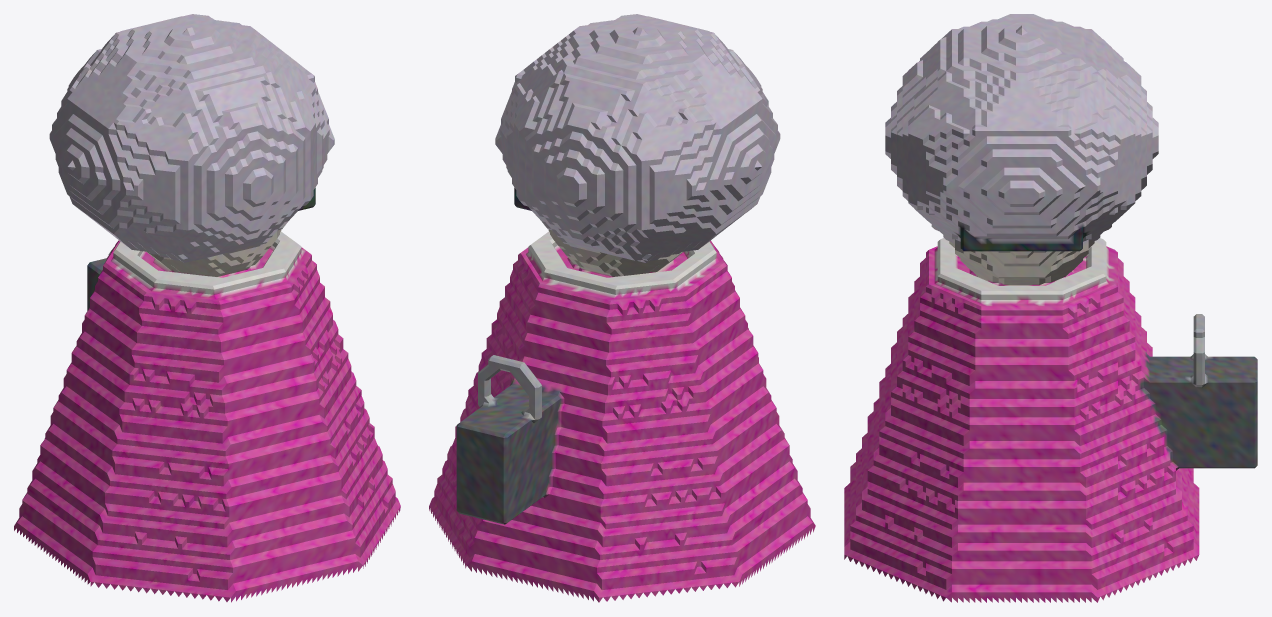
File: modello_denso_di_prova.glb
The picture shows the model from 3 angles, left to right: view 1: azimuth 30°, elevation 25°; view 2: azimuth 150°, elevation 25°; view 3: azimuth 270°, elevation 25°; orthographic projection.
Parts seen in each view (by area): view 1: geometry_0; view 2: geometry_0; view 3: geometry_0.
Part boxes in pixels (<box>): geometry_0: <box>14,14,400,602</box>; geometry_0: <box>429,14,815,602</box>; geometry_0: <box>844,14,1257,602</box>.
Bounding box in the file's own units: 5.86 × 8.98 × 6.82.
